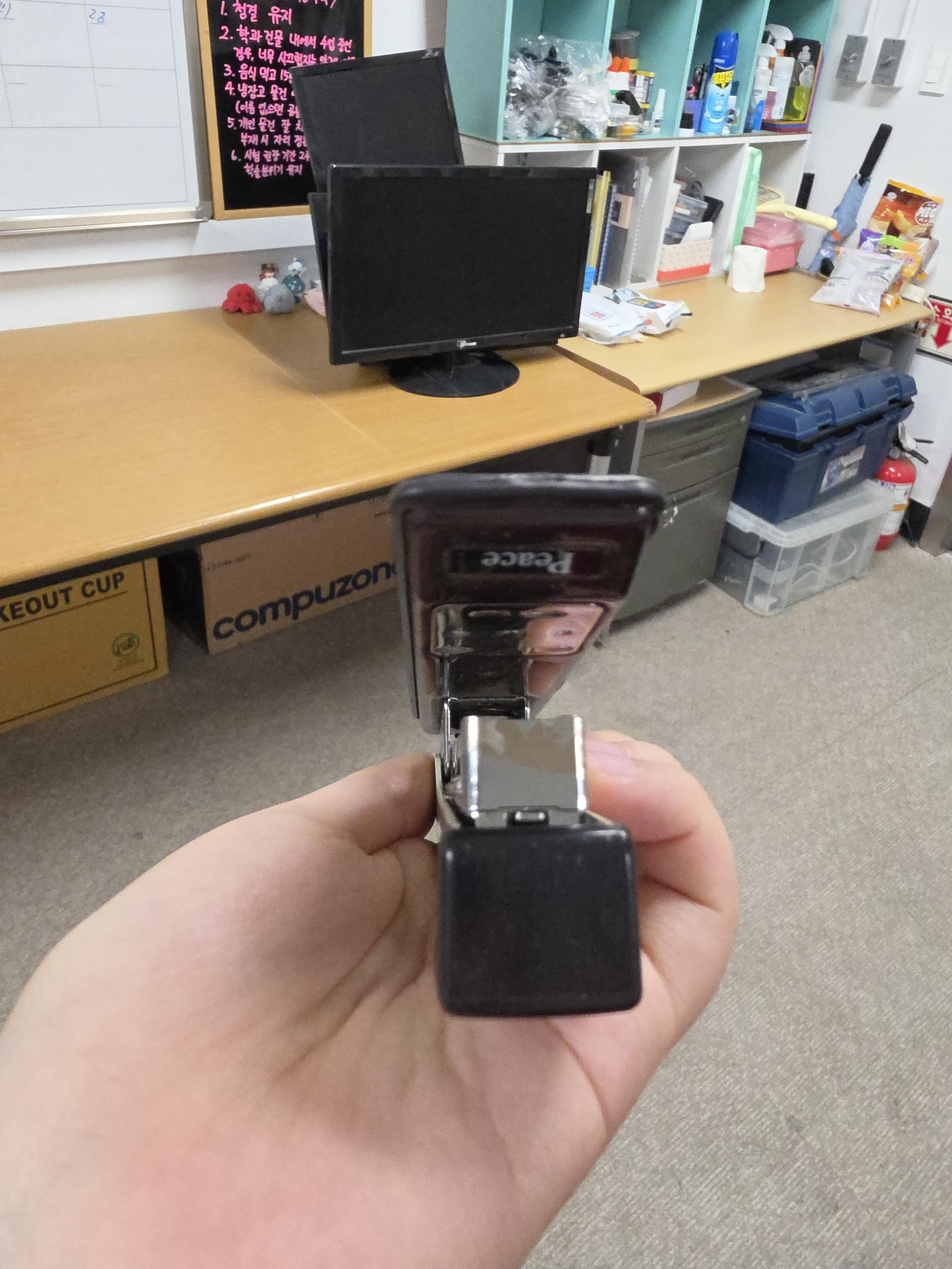stapler: (388, 471, 666, 1018)
tissue: (656, 221, 716, 284), (730, 245, 768, 294)
